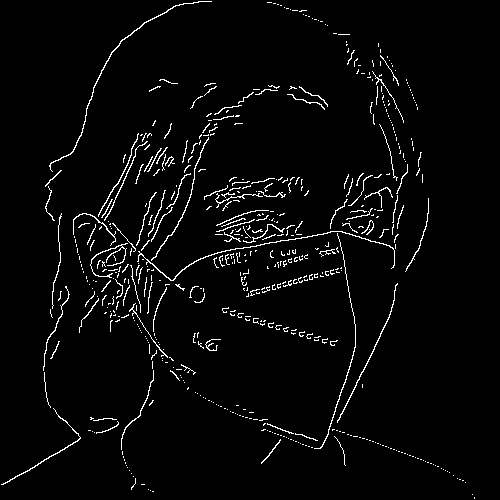mask: (115, 227, 411, 455)
